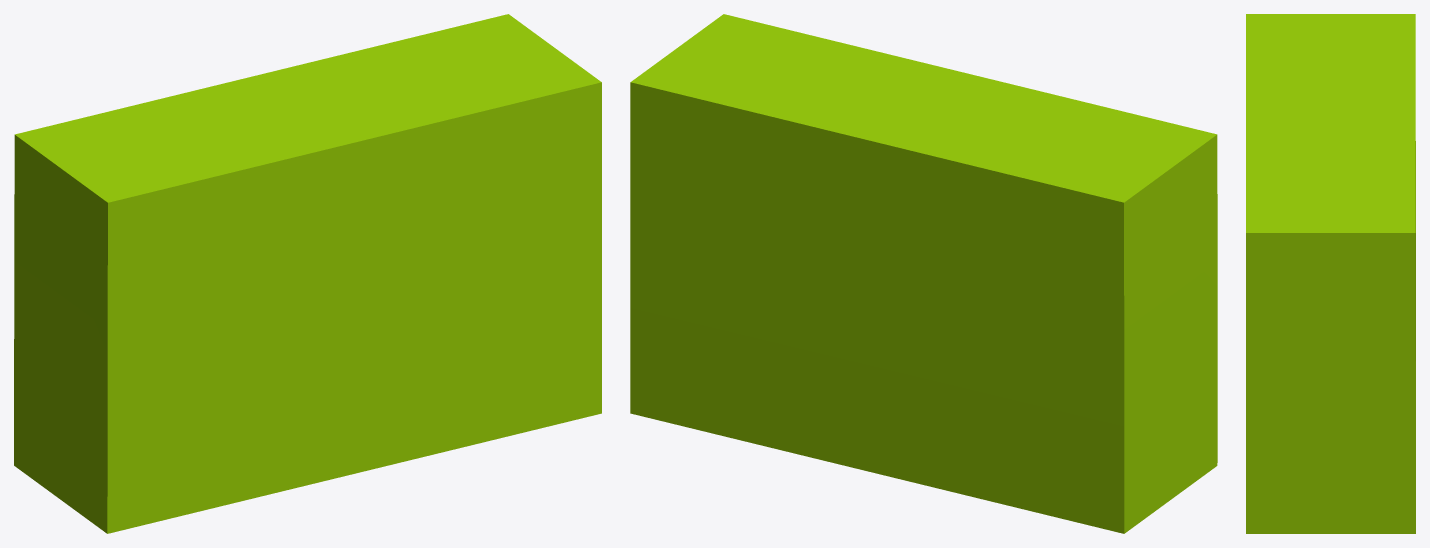
The picture shows the model from 3 angles, left to right: view 1: azimuth 30°, elevation 25°; view 2: azimuth 150°, elevation 25°; view 3: azimuth 270°, elevation 25°; orthographic projection. The views are drawn at different scales.
Bounding box in the file's own units: 1.53 × 0.9793 × 0.5011.
